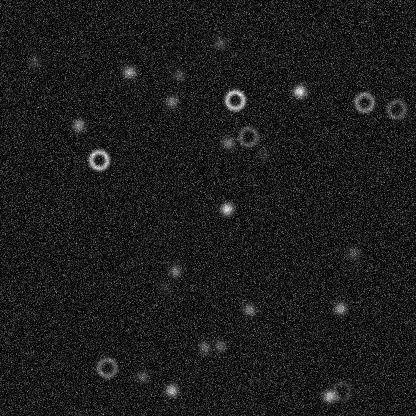Ring: (86, 147, 110, 171), (352, 90, 376, 114), (329, 379, 353, 403), (94, 355, 118, 379), (236, 124, 260, 148), (384, 97, 408, 121), (222, 88, 246, 112)
Spot: (241, 301, 257, 317), (134, 368, 150, 384), (321, 388, 337, 404), (156, 279, 172, 295), (163, 93, 179, 109), (121, 64, 137, 80), (291, 83, 307, 99), (345, 245, 361, 261), (26, 53, 42, 69), (218, 200, 234, 216), (220, 135, 236, 151), (163, 382, 179, 398), (196, 339, 212, 355), (211, 337, 227, 353), (170, 66, 186, 82), (70, 117, 86, 133), (211, 34, 227, 50), (167, 263, 183, 279), (255, 145, 271, 161), (332, 300, 348, 316)
